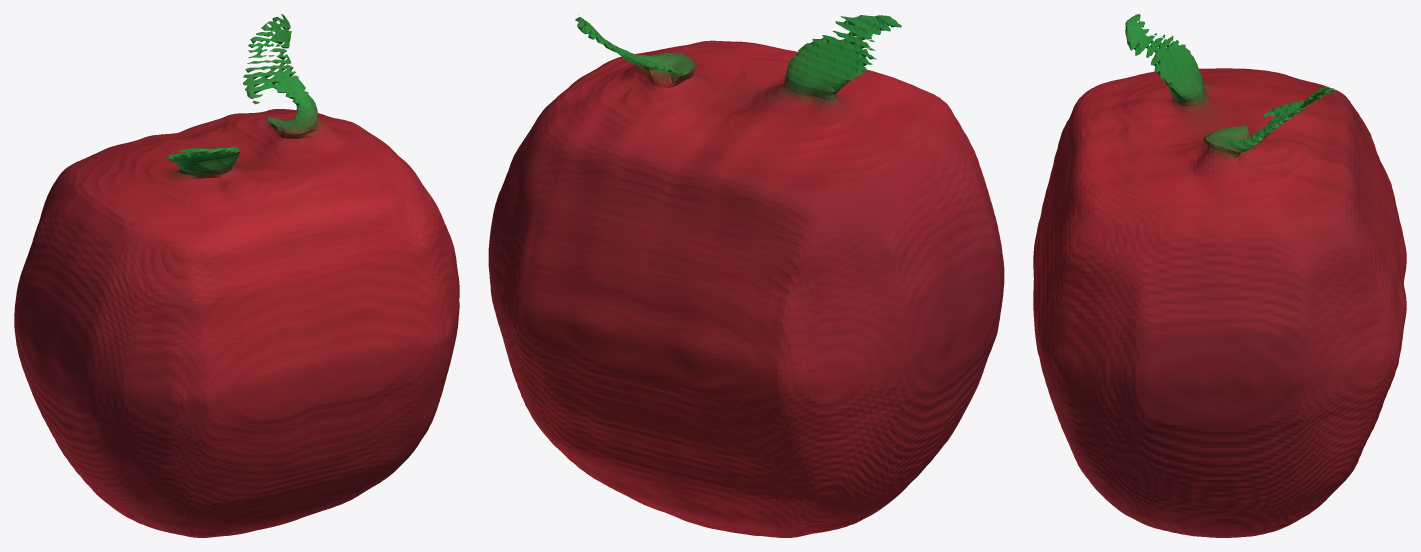
The picture shows the model from 3 angles, left to right: view 1: azimuth 30°, elevation 25°; view 2: azimuth 150°, elevation 25°; view 3: azimuth 270°, elevation 25°; orthographic projection. The views are drawn at different scales.
Visible parts, largest first — view 1: tmp050hr8xl.ply; view 2: tmp050hr8xl.ply; view 3: tmp050hr8xl.ply.
Part boxes in pixels (x1,y1,x2,y2): tmp050hr8xl.ply: [14, 14, 459, 537]; tmp050hr8xl.ply: [488, 14, 1004, 537]; tmp050hr8xl.ply: [1033, 14, 1406, 537].
Bounding box in the file's own units: 1.74 × 1.95 × 1.4.
